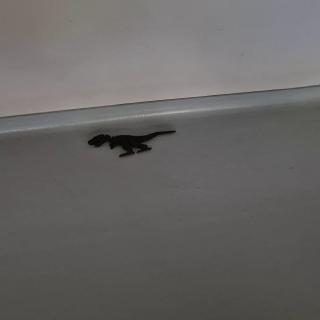dino: (87, 130, 177, 158)
